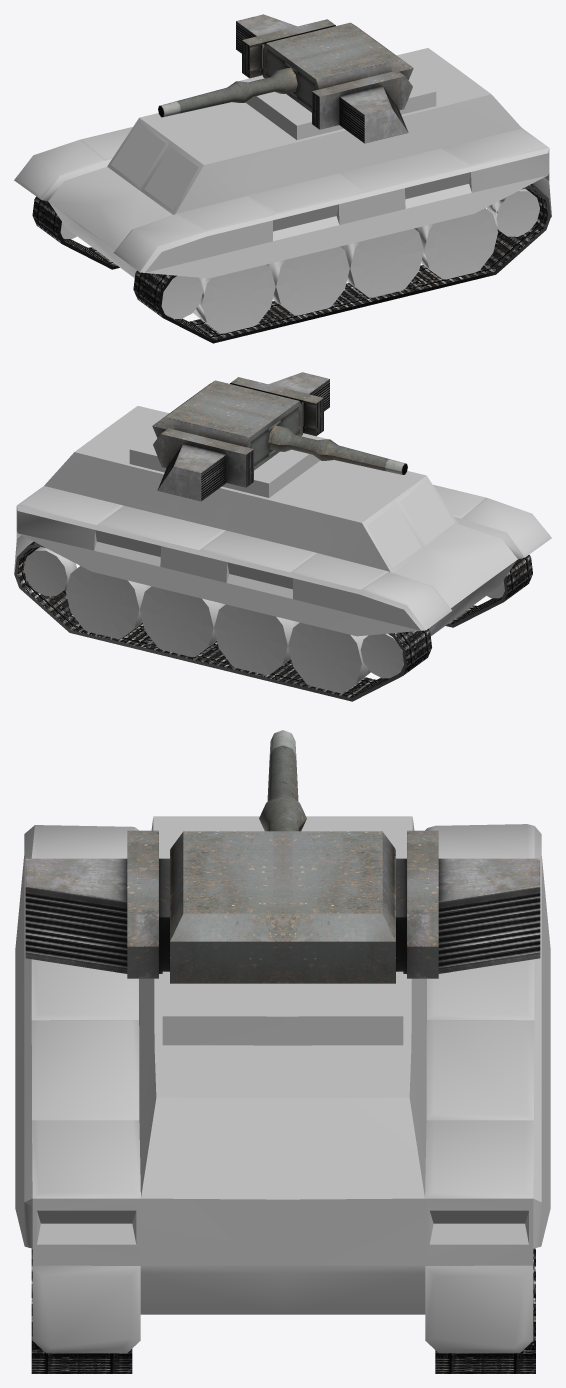
File: Tank6_lod1.FBX
3 renders of one model, top to bottom at view 1: azimuth 30°, elevation 25°; view 2: azimuth 150°, elevation 25°; view 3: azimuth 270°, elevation 25°, orthographic. The views are drawn at different scales.
Visible parts, largest first — view 1: tank16, tank6_gun01, Object48, wheel261, wheel256, wheel265, wheel264, wheel257, wheel263; view 2: tank16, tank6_gun01, Object48, wheel255, wheel260, wheel259, wheel258, wheel262, wheel266; view 3: tank16, tank6_gun01, Object48.
Boxes of the visible parts, x1,y1,x2,y2 form: tank16: (14,48,551,278); tank6_gun01: (158,14,413,143); Object48: (32,184,550,343); wheel261: (414,208,497,279); wheel256: (340,228,423,297); wheel265: (266,246,349,315); wheel264: (193,264,275,333); wheel257: (487,188,539,236); wheel263: (161,275,203,318); tank16: (14,406,551,636); tank6_gun01: (152,372,407,501); Object48: (14,541,532,701); wheel255: (65,566,150,638); wheel260: (140,586,225,656); wheel259: (214,604,299,674); wheel258: (288,622,370,693); wheel262: (23,546,76,596); wheel266: (360,633,403,678); tank16: (15,816,550,1353); tank6_gun01: (25,730,540,983); Object48: (31,1248,535,1373).
Size of the model in its own units: 5.84 by 2.73 by 3.27.
